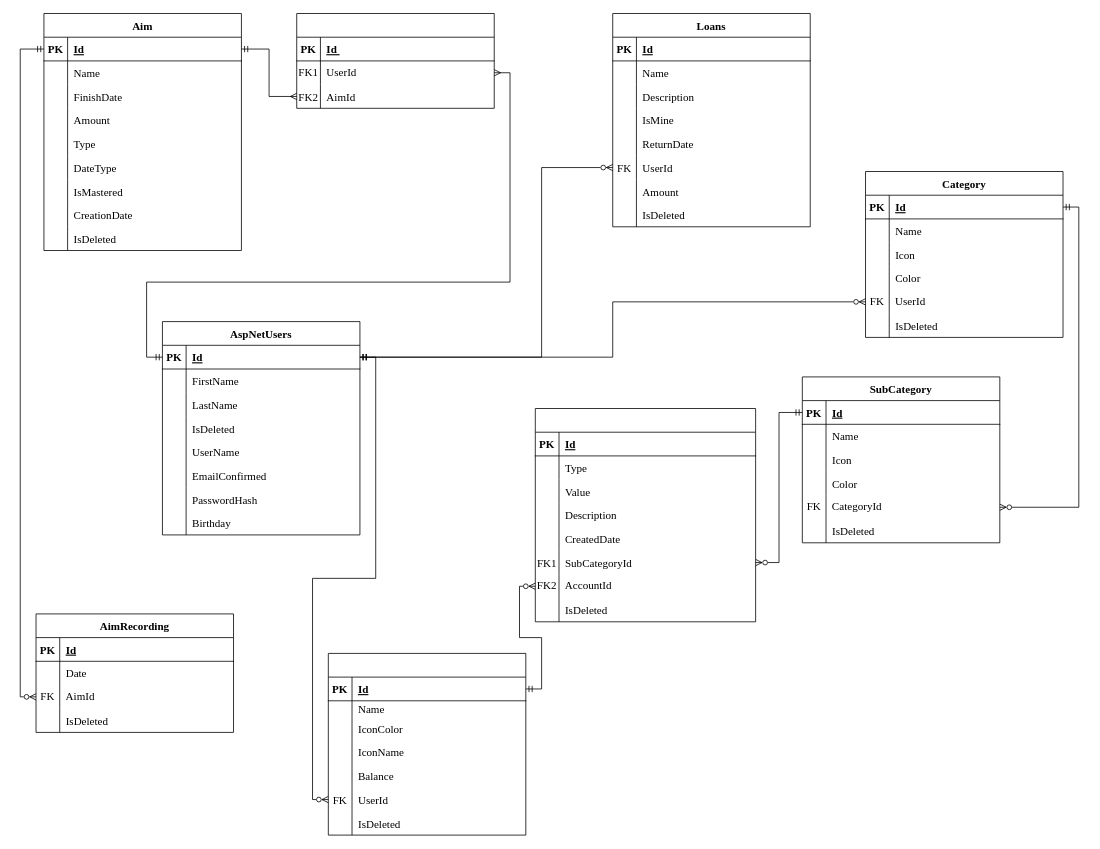
Image size: 1100x849. Some labels were removed from this diagram. The box of each missing label's shape, as (x1, y1, x2, y2) in pixels:
Account: (328, 653, 526, 835)
Operation: (535, 408, 756, 622)
UserAims: (296, 13, 494, 108)
